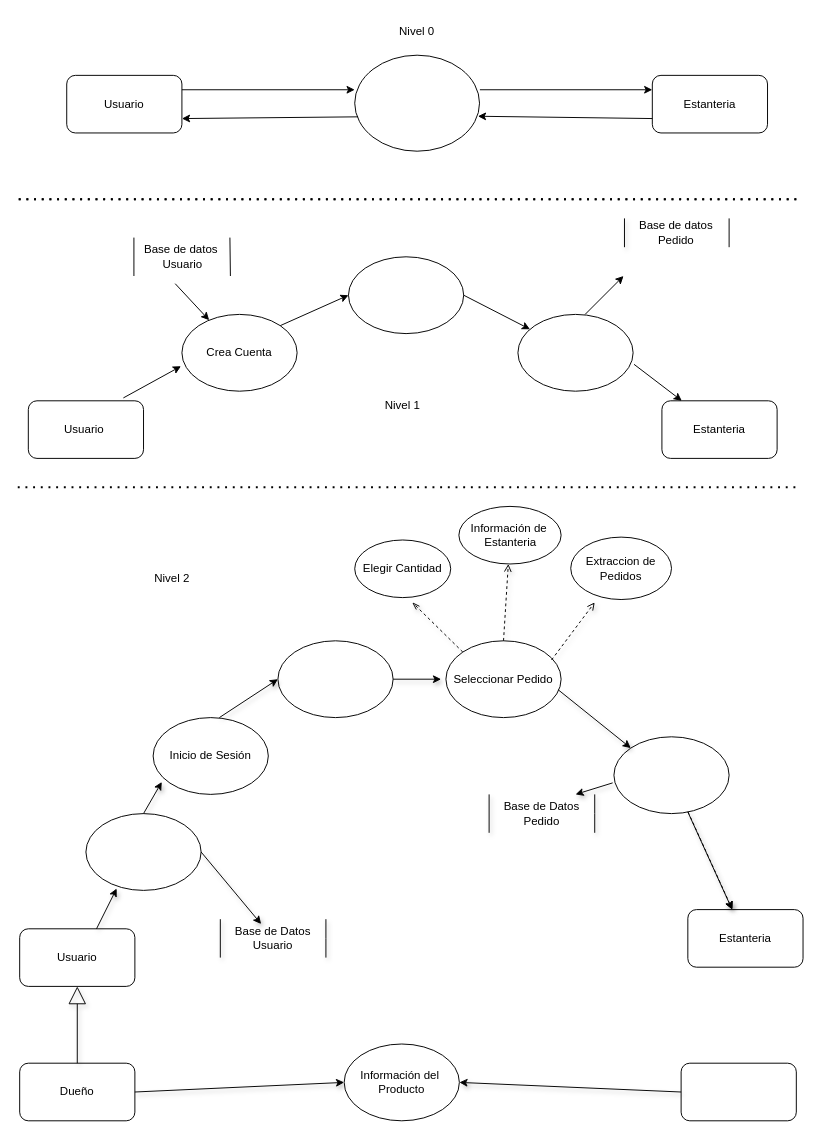
Some shapes in this 820 by 1138 pixel diagram are drawn without their labels. The centre of each missing label's shape, as x and y in pixels:
"Carga datos del Pedido" goes at (575,352).
"Cargar datos del pedido" goes at (671,775).
"Encargado" goes at (738,1091).
"Ingresar Pedido" goes at (335,679).
"Pedido" goes at (417,102).
"Registro" goes at (143,851).
"Selecciona Pedido" goes at (406,295).
